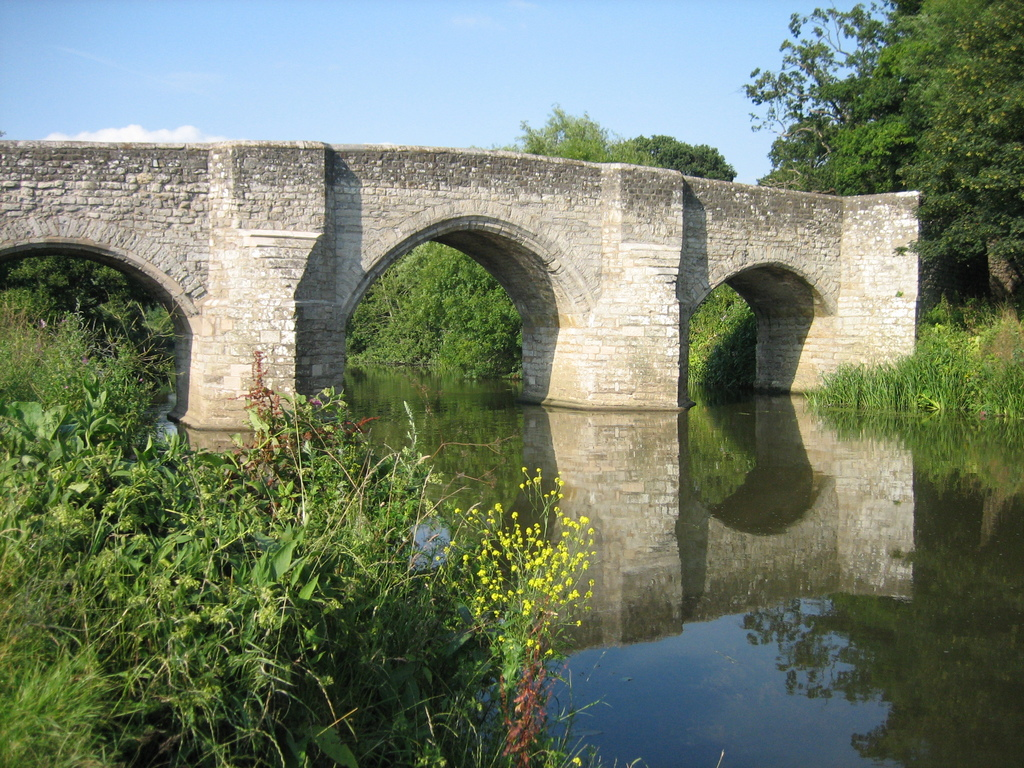Tree: (0, 97, 757, 409), (734, 0, 1024, 308)
